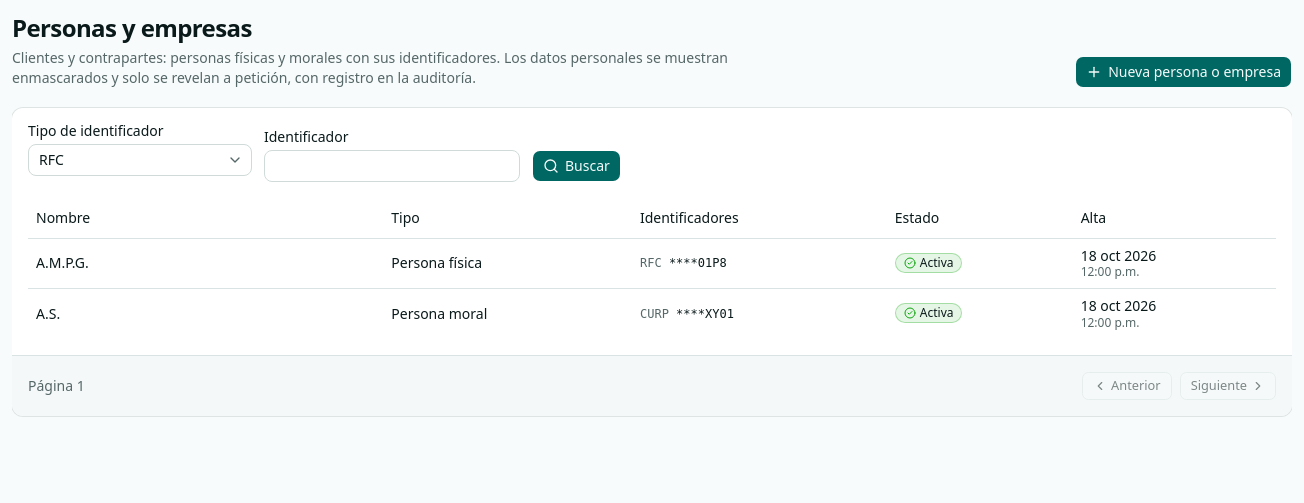
Test case: PartiesPage: identifier search › sends exactly one request with id_type and value after submit, and none while typing
Expected: the link "A.M.P.G." is shown, [36,253,89,272]
Click the dropdown named "Tipo de identificador". click: (140, 160)
box: [28,144,252,176]
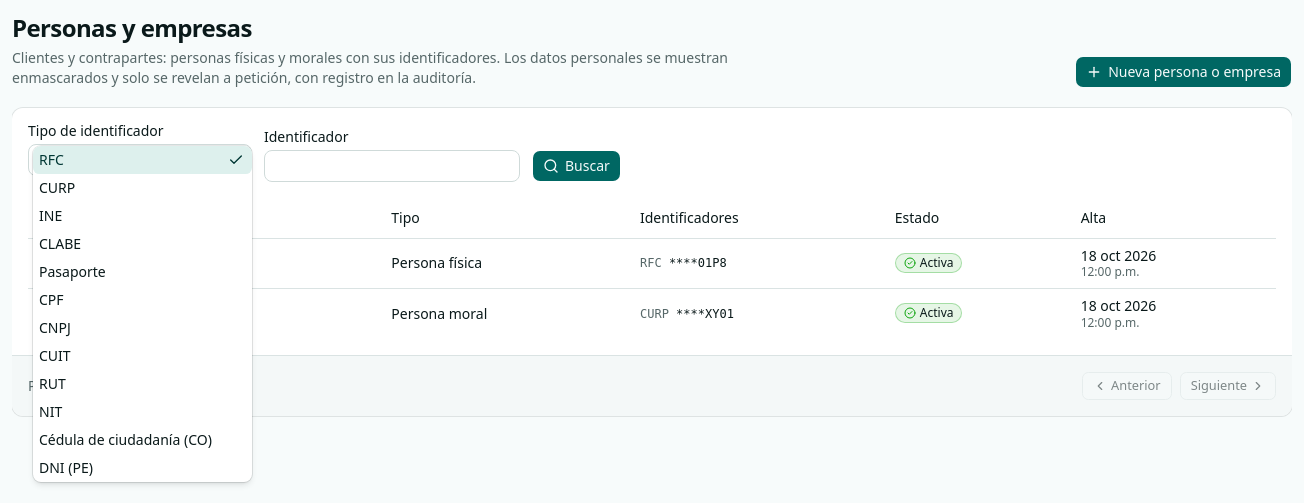
Click the option "CURP". click: (57, 188)
box: [39,178,75,197]
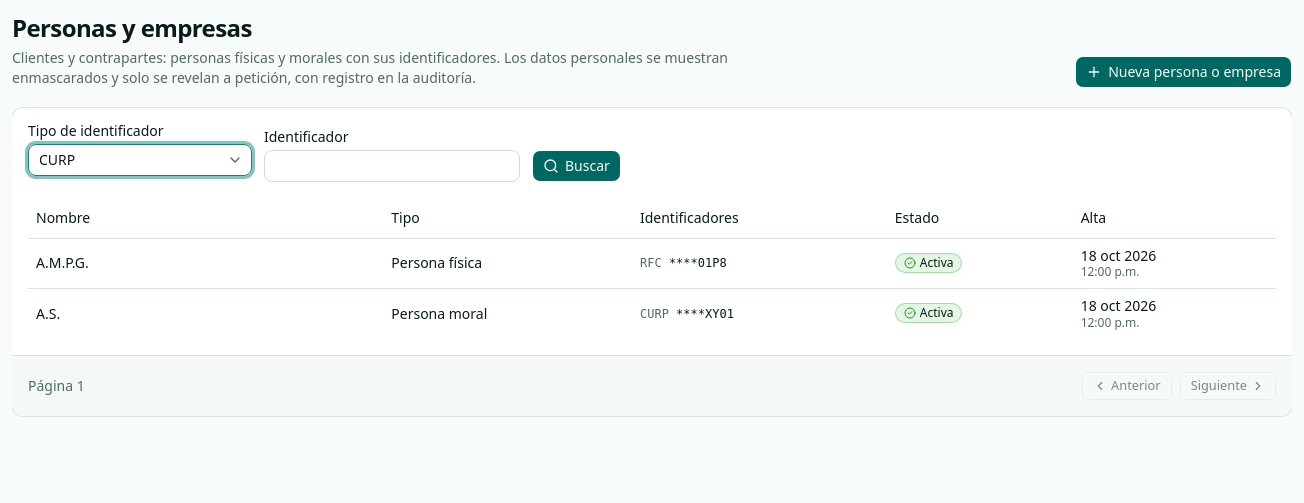
Type "PEGA760510MDFRMN09" into the field labelled "Identificador". click: (392, 166)
box: [264,150,520,182]
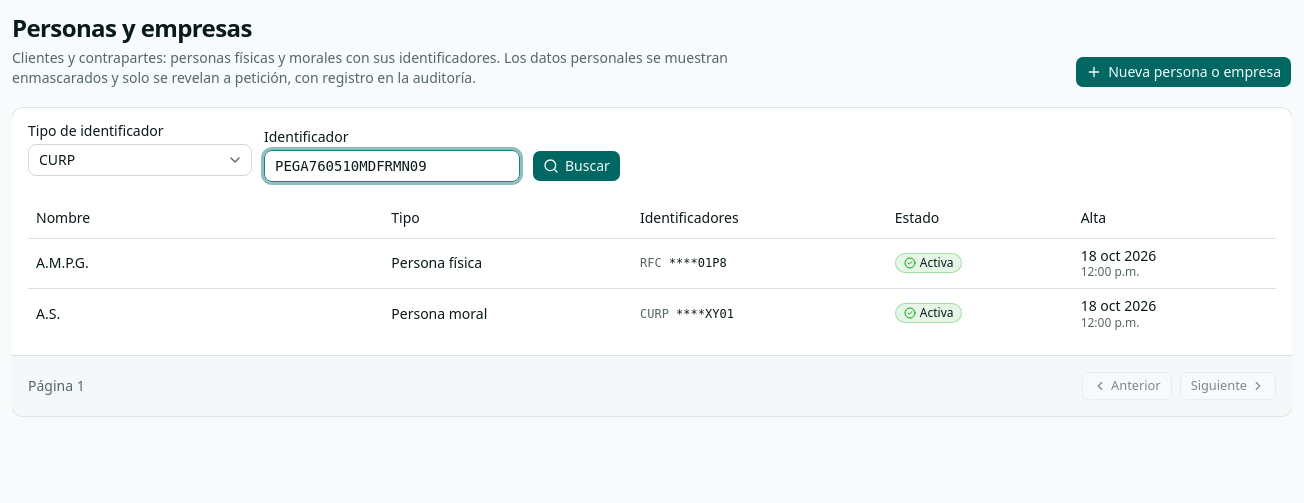
Click the button "Buscar". click: (576, 166)
box: [532,150,621,182]
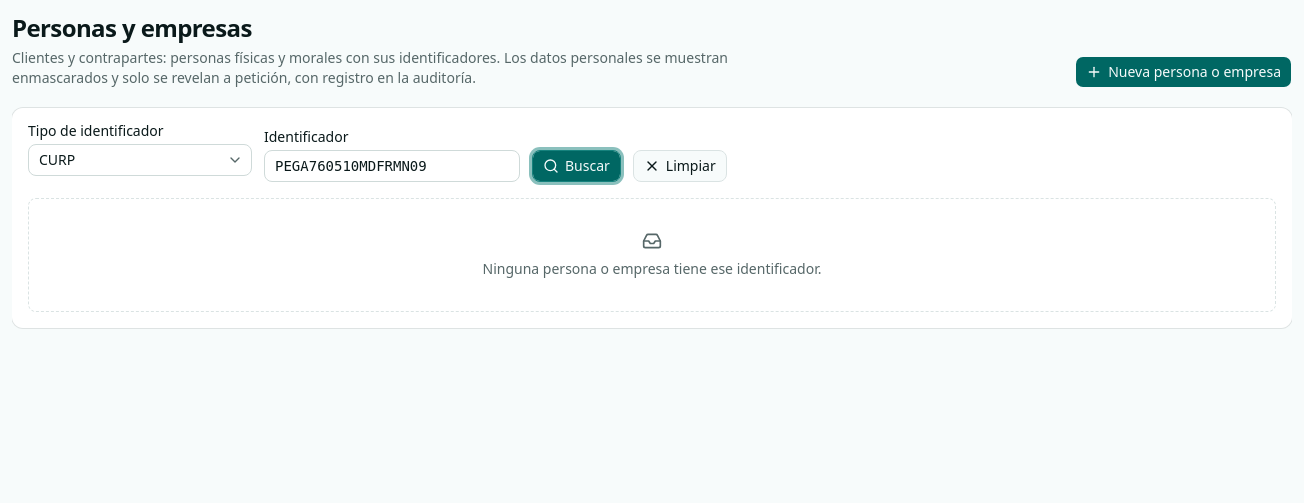
Result: the text "Ninguna persona o empresa tiene ese identificador." is shown at [28,198,1276,312]
Click the button "Limpiar". click: (680, 166)
box: [633,150,727,182]
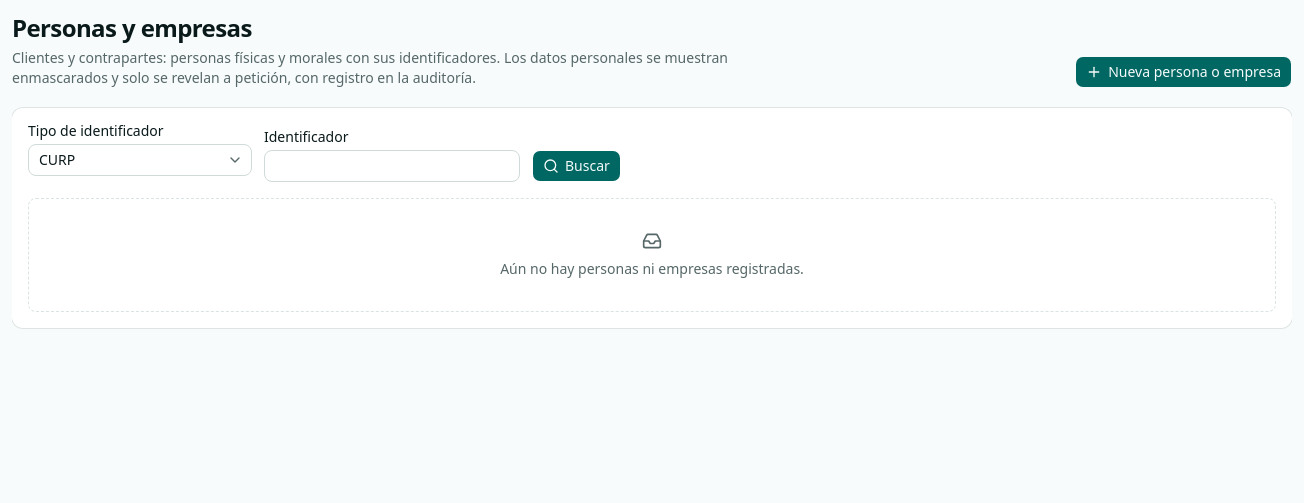
Result: the field labelled "Identificador" is empty at [264,150,520,182]
